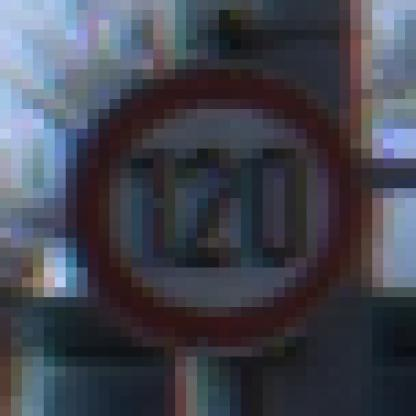Speed Limit 120: (79, 72, 357, 352)
